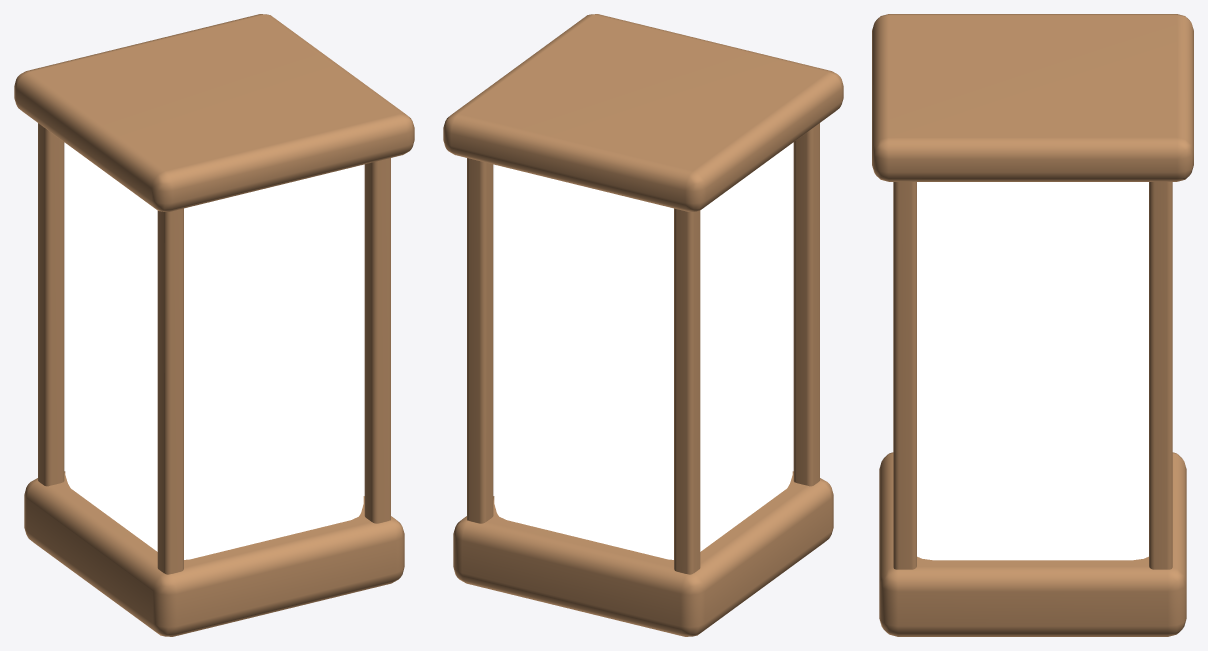
File: japaneseCandle.glb
3 renders of one model, left to right at view 1: azimuth 30°, elevation 25°; view 2: azimuth 150°, elevation 25°; view 3: azimuth 270°, elevation 25°, orthographic. The views are drawn at different scales.
Parts seen in each view (by area): view 1: Paper lantern, Lantern lid, Lantern base, Lantern frame, Lantern frame.002, Lantern frame.001; view 2: Paper lantern, Lantern lid, Lantern base, Lantern frame.001, Lantern frame.003, Lantern frame; view 3: Paper lantern, Lantern lid, Lantern base, Lantern frame.002, Lantern frame.003.
Boxes of the visible parts, x1,y1,x2,y2 form: Paper lantern: (65,143,363,559); Lantern lid: (14,14,414,211); Lantern base: (24,471,404,636); Lantern frame: (157,208,183,574); Lantern frame.002: (364,158,390,523); Lantern frame.001: (38,123,64,486); Paper lantern: (494,143,792,559); Lantern lid: (443,14,843,211); Lantern base: (453,471,833,636); Lantern frame.001: (674,208,700,574); Lantern frame.003: (467,158,493,523); Lantern frame: (793,123,819,486); Paper lantern: (917,182,1148,560); Lantern lid: (872,14,1193,181); Lantern base: (879,452,1186,636); Lantern frame.002: (893,182,916,569); Lantern frame.003: (1149,182,1172,569).
Size of the model in its own units: 0.68 by 1.17 by 0.68.
